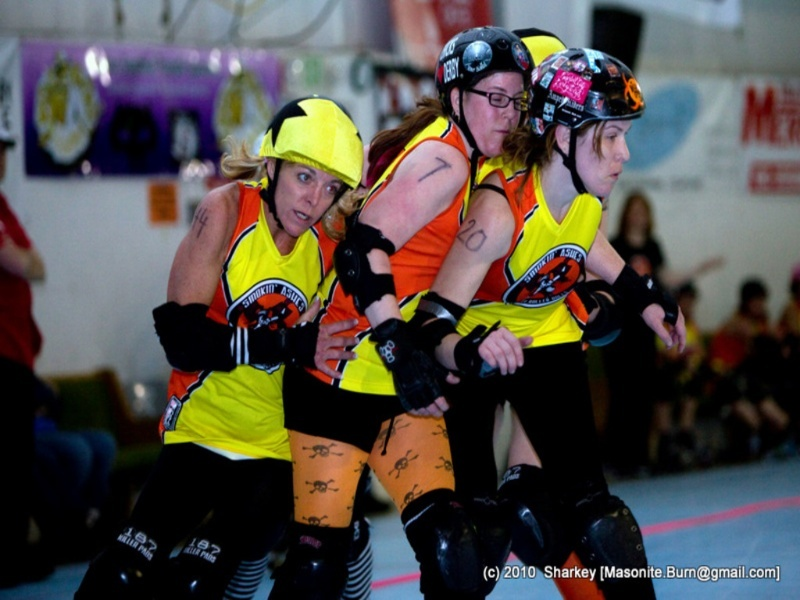baret: (528, 47, 651, 131), (260, 94, 363, 193), (433, 23, 534, 89)
